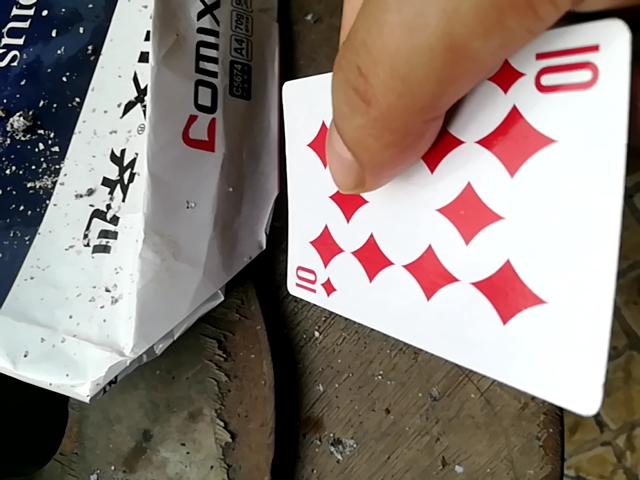fk 10: (288, 34, 629, 417)
